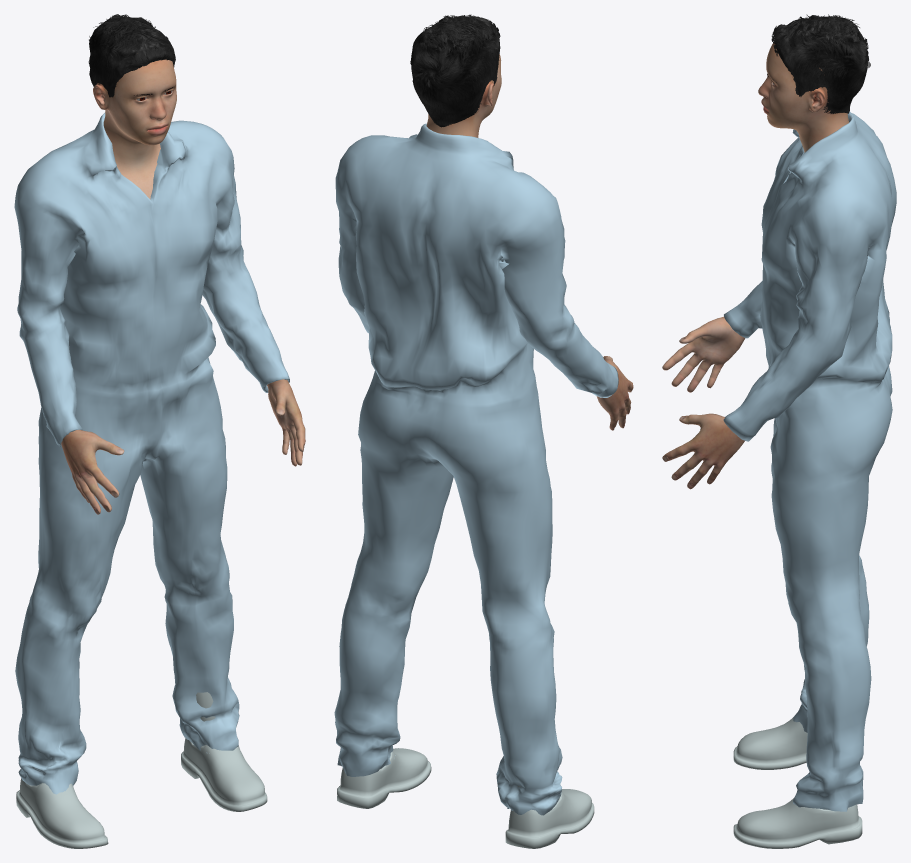
The model's file is asset.fbx.
3 views of the same model, side by side, from view 1: azimuth 30°, elevation 25°; view 2: azimuth 150°, elevation 25°; view 3: azimuth 270°, elevation 25° (orthographic). The views are drawn at different scales.
Visible parts, largest first — view 1: radcare_patient_outfit, radcare_patient_body, radcare_patient_shoes, radcare_patient_hair; view 2: radcare_patient_outfit, radcare_patient_hair, radcare_patient_shoes, radcare_patient_body; view 3: radcare_patient_outfit, radcare_patient_body, radcare_patient_shoes, radcare_patient_hair.
Boxes of the visible parts, x1,y1,x2,y2 form: radcare_patient_outfit: [14, 112, 289, 794]; radcare_patient_body: [61, 59, 305, 514]; radcare_patient_shoes: [16, 692, 267, 848]; radcare_patient_hair: [88, 14, 175, 97]; radcare_patient_outfit: [334, 123, 618, 815]; radcare_patient_hair: [410, 14, 500, 127]; radcare_patient_shoes: [337, 748, 594, 848]; radcare_patient_body: [426, 54, 633, 430]; radcare_patient_outfit: [723, 112, 896, 811]; radcare_patient_body: [662, 43, 848, 489]; radcare_patient_shoes: [733, 717, 862, 848]; radcare_patient_hair: [771, 14, 870, 113].
Bounding box in the file's own units: 0.5366 × 1.72 × 0.4673.
